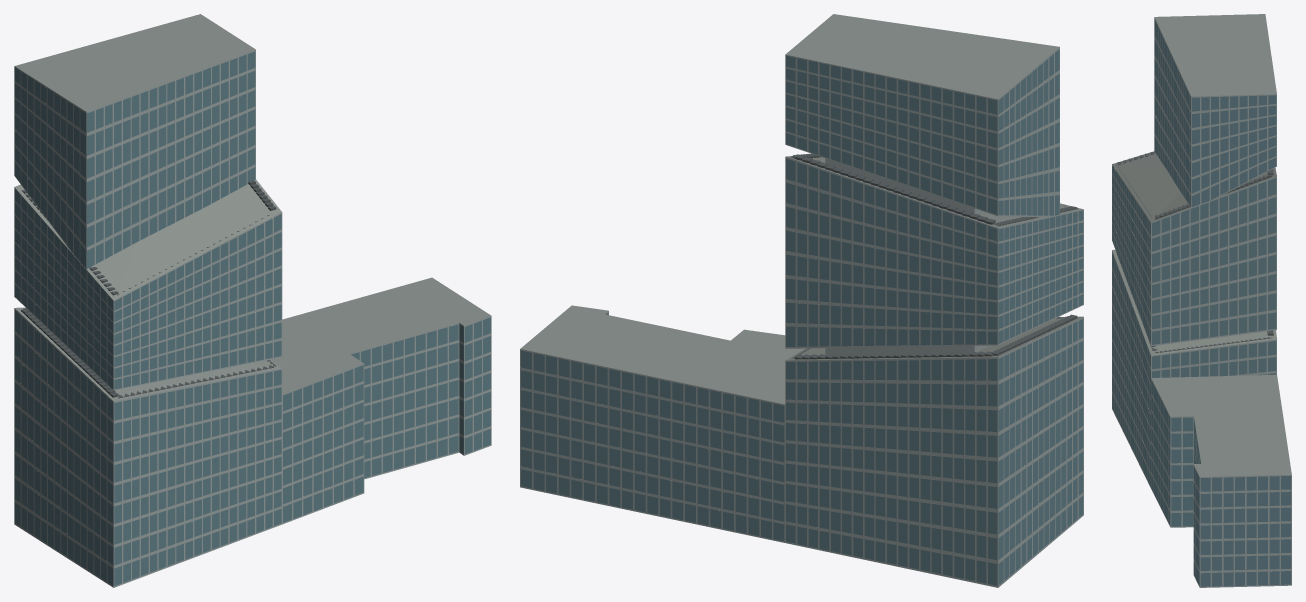
Rendered from vinoly-tower-amsterdam-near.glb.
3 views of the same model, side by side, from view 1: azimuth 30°, elevation 25°; view 2: azimuth 150°, elevation 25°; view 3: azimuth 270°, elevation 25° (orthographic). The views are drawn at different scales.
Parts seen in each view (by area): view 1: vinoly-tower-amsterdam-0-glass, vinoly-tower-amsterdam-0-metal, vinoly-tower-amsterdam-0-roof, vinoly-tower-amsterdam-0-stair; view 2: vinoly-tower-amsterdam-0-glass, vinoly-tower-amsterdam-0-metal, vinoly-tower-amsterdam-0-roof, vinoly-tower-amsterdam-0-stair; view 3: vinoly-tower-amsterdam-0-glass, vinoly-tower-amsterdam-0-metal, vinoly-tower-amsterdam-0-roof, vinoly-tower-amsterdam-0-stair.
Part boxes in pixels (x1=…): vinoly-tower-amsterdam-0-glass: x1=15, y1=51, x2=490, y2=585; vinoly-tower-amsterdam-0-metal: x1=14, y1=49, x2=491, y2=587; vinoly-tower-amsterdam-0-roof: x1=15, y1=14, x2=491, y2=401; vinoly-tower-amsterdam-0-stair: x1=21, y1=180, x2=276, y2=398; vinoly-tower-amsterdam-0-glass: x1=521, y1=49, x2=1083, y2=585; vinoly-tower-amsterdam-0-metal: x1=520, y1=47, x2=1083, y2=587; vinoly-tower-amsterdam-0-roof: x1=520, y1=14, x2=1083, y2=404; vinoly-tower-amsterdam-0-stair: x1=791, y1=153, x2=1077, y2=359; vinoly-tower-amsterdam-0-glass: x1=1112, y1=19, x2=1291, y2=586; vinoly-tower-amsterdam-0-metal: x1=1112, y1=17, x2=1291, y2=587; vinoly-tower-amsterdam-0-roof: x1=1112, y1=14, x2=1291, y2=476; vinoly-tower-amsterdam-0-stair: x1=1116, y1=152, x2=1273, y2=353.
Size of the model in its own units: 91.12 by 91 by 37.91.
